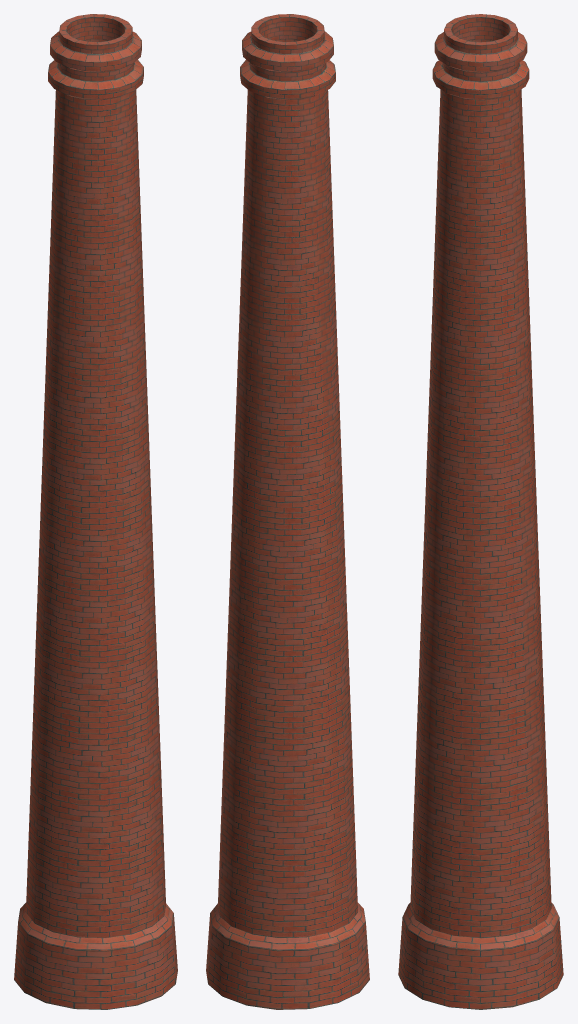
File: Factory_SmokeStack.dae
3 renders of one model, left to right at view 1: azimuth 30°, elevation 25°; view 2: azimuth 150°, elevation 25°; view 3: azimuth 270°, elevation 25°, orthographic.
Visible parts, largest first — view 1: Cylinder; view 2: Cylinder; view 3: Cylinder.
Boxes of the visible parts, x1=… form: Cylinder: x1=14, y1=14, x2=177, y2=1009; Cylinder: x1=206, y1=14, x2=369, y2=1009; Cylinder: x1=398, y1=14, x2=563, y2=1009.
Bounding box in the file's own units: 33.6 × 33.6 × 212.
